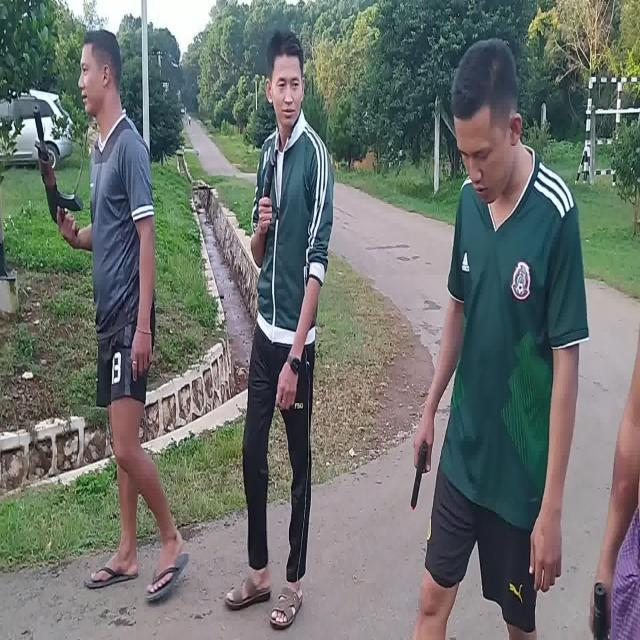gun: (33, 106, 83, 237), (412, 444, 429, 509)
